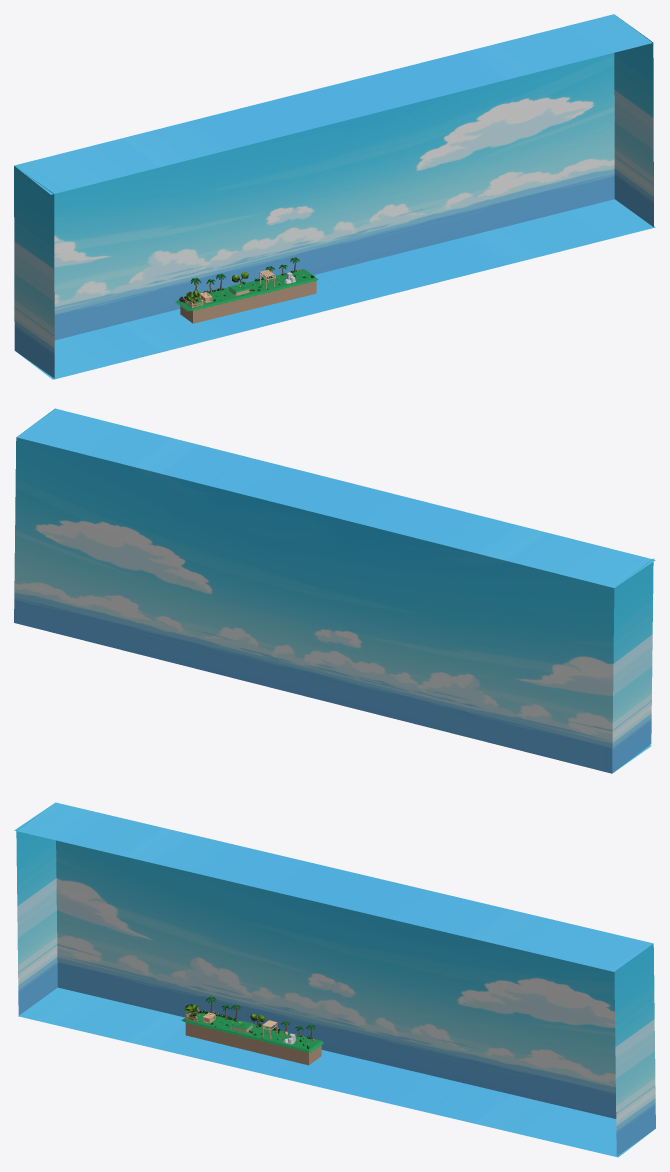
File: Langit lupa.glb
3 renders of one model, top to bottom at view 1: azimuth 30°, elevation 25°; view 2: azimuth 150°, elevation 25°; view 3: azimuth 330°, elevation 25°, orthographic.
Parts seen in each view (by area): view 1: background, blockLarge.001, blockLarge.004; view 2: background; view 3: background, blockLarge.001, blockLarge.004.
Boxes of the visible parts, box(x1,y1,x2,y2) form: background: box(14, 14, 655, 379); blockLarge.001: box(175, 279, 280, 323); blockLarge.004: box(263, 269, 318, 302); background: box(14, 408, 655, 773); background: box(14, 802, 655, 1157); blockLarge.001: box(181, 1013, 283, 1056); blockLarge.004: box(268, 1032, 323, 1065).
Bounding box in the file's own units: 344 × 104 × 39.94.
66 materials, 12 textured.
